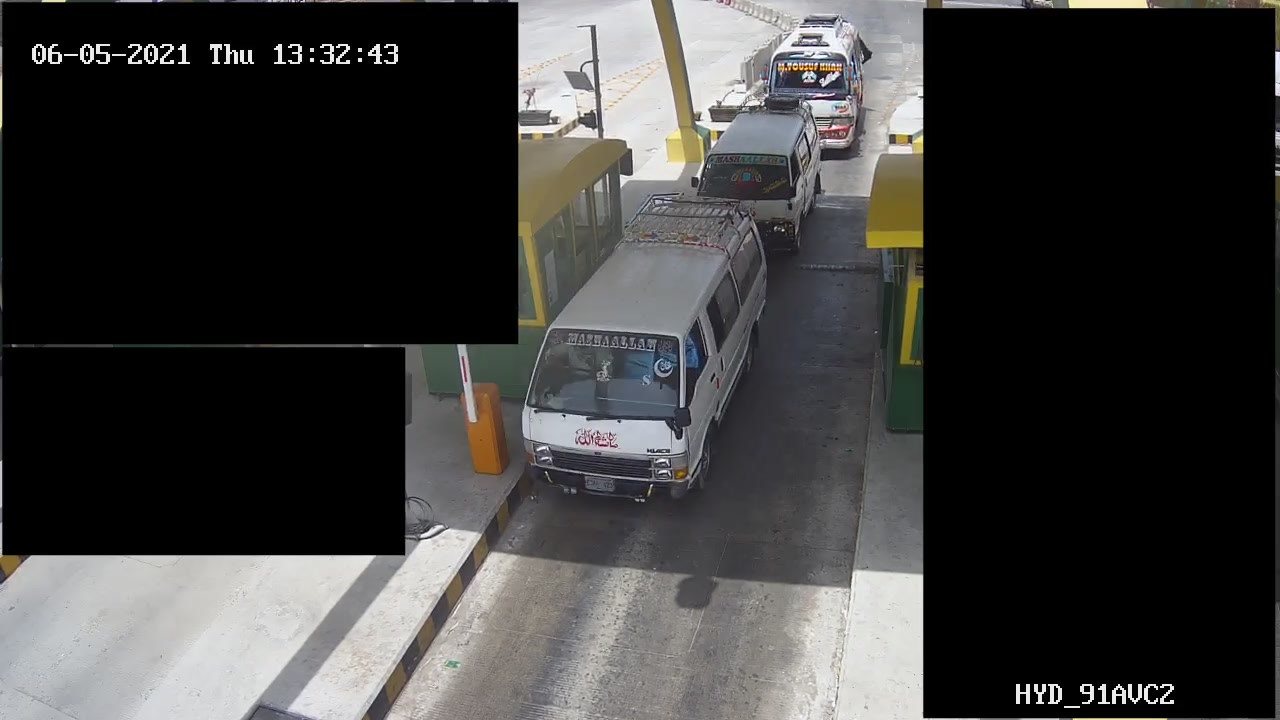F2: (515, 202, 763, 518)
